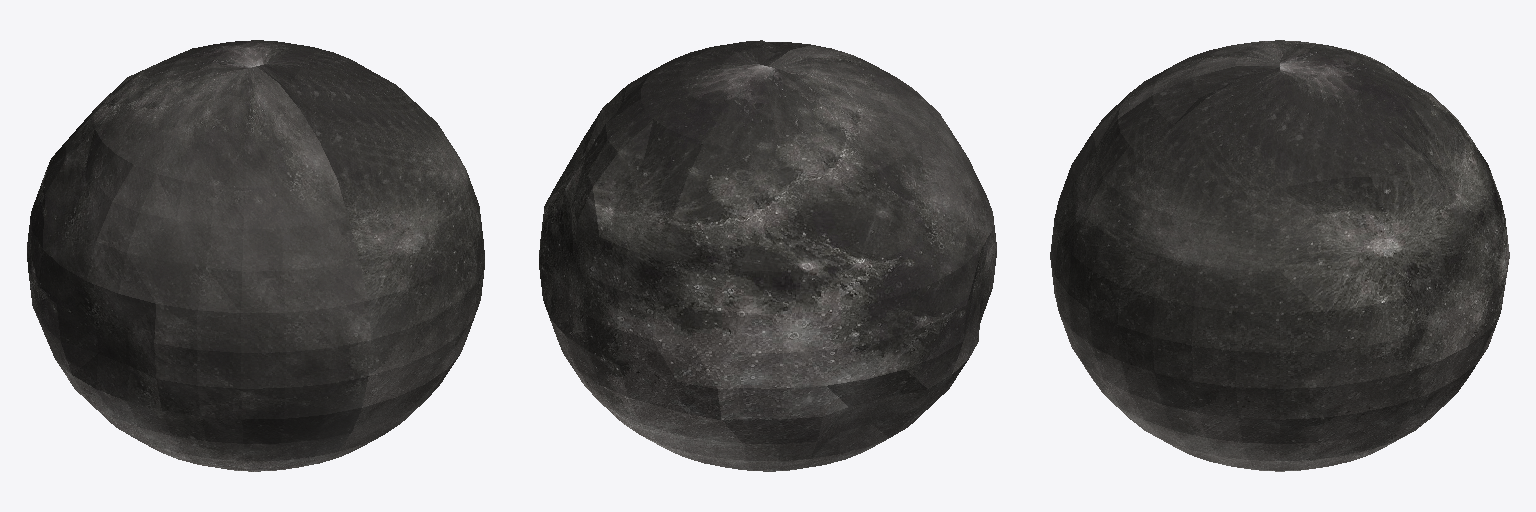
The picture shows the model from 3 angles: view 1: azimuth 30°, elevation 25°; view 2: azimuth 150°, elevation 25°; view 3: azimuth 270°, elevation 25°; orthographic projection.
Parts seen in each view (by area): view 1: Sphere_Sphere.001; view 2: Sphere_Sphere.001; view 3: Sphere_Sphere.001.
Part boxes in pixels (x1,y1,x2,y2): Sphere_Sphere.001: (27,40,484,471); Sphere_Sphere.001: (539,40,996,471); Sphere_Sphere.001: (1050,40,1509,471).
Size of the model in its own units: 2 by 1.82 by 2.
Materials: 1 (1 with a texture image).